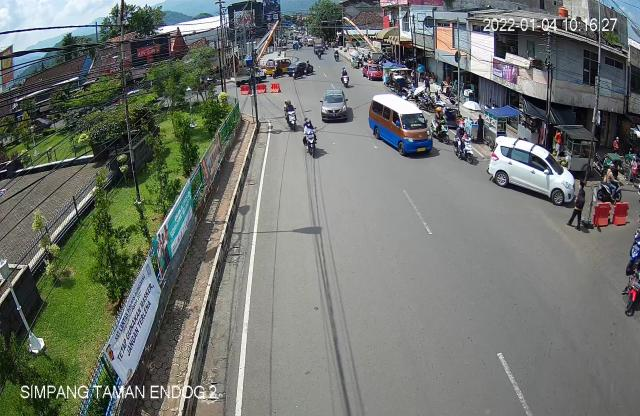Mobil: (488, 134, 578, 210), (367, 93, 440, 162), (319, 85, 353, 127)
Motor: (298, 112, 324, 164), (596, 160, 626, 203), (452, 121, 479, 166), (427, 106, 453, 144), (280, 96, 303, 133), (341, 66, 353, 89)
